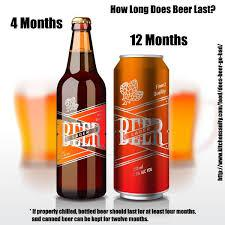beer: (56, 18, 107, 198), (113, 54, 173, 199)
